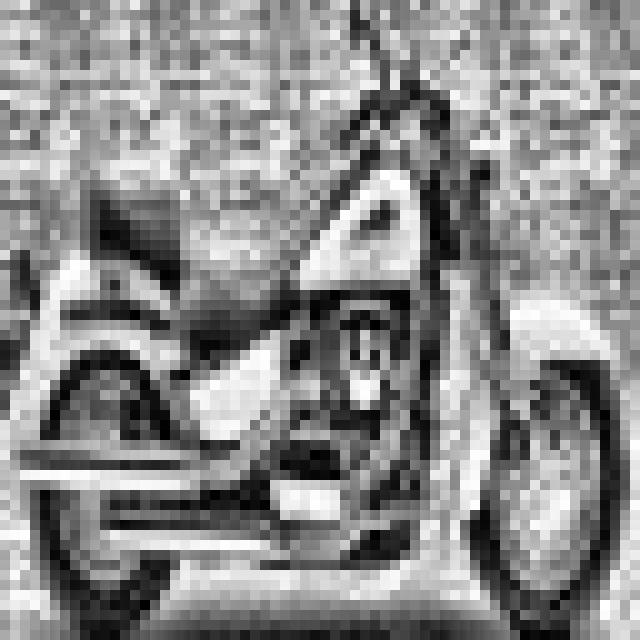mopeds: (12, 61, 640, 635)
